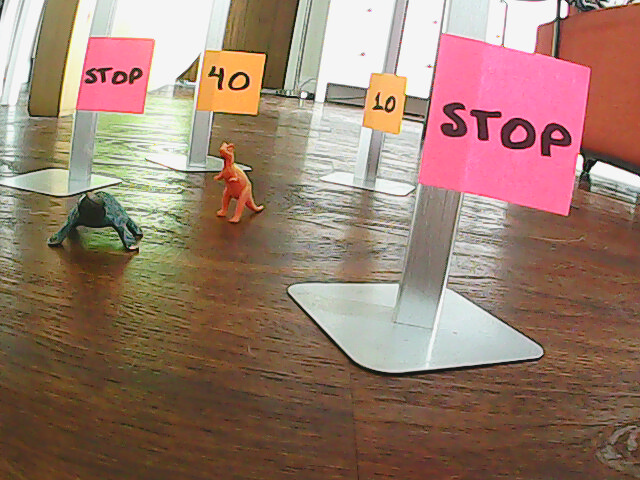10: (366, 80, 404, 124)
40: (203, 54, 259, 109)
dinosaur: (211, 138, 268, 226)
stop: (436, 64, 578, 170), (85, 46, 145, 109)
turtle: (43, 187, 145, 255)
